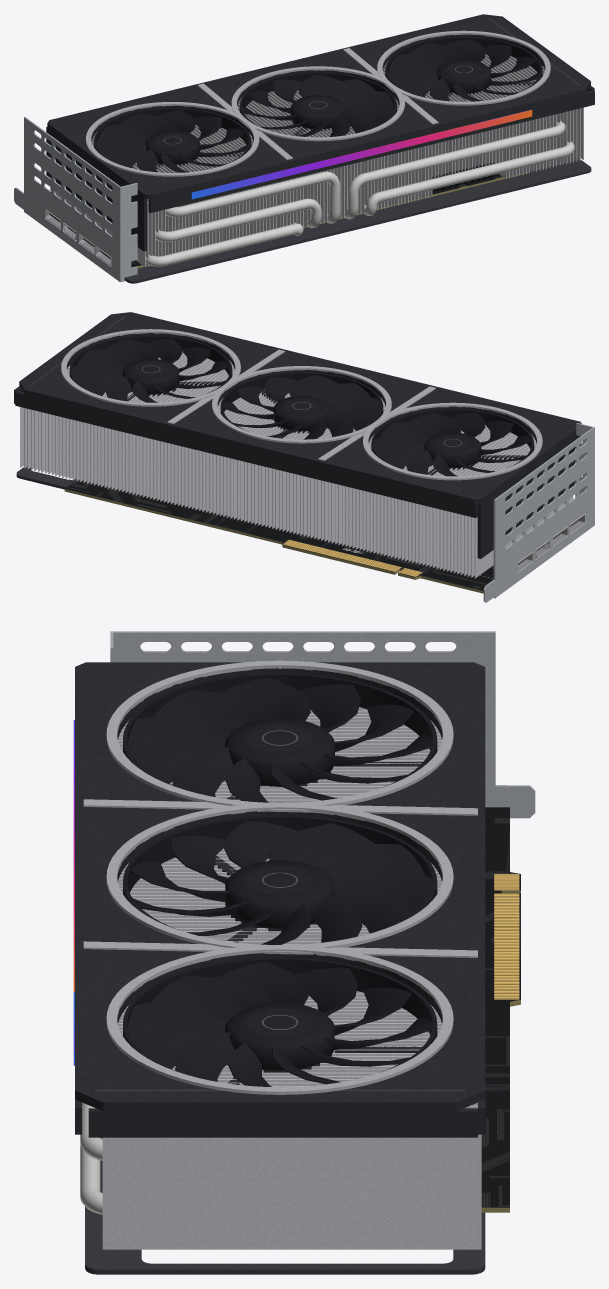
File: gpu.glb
The picture shows the model from 3 angles, top to bottom: view 1: azimuth 30°, elevation 25°; view 2: azimuth 150°, elevation 25°; view 3: azimuth 270°, elevation 25°; orthographic projection. The views are drawn at different scales.
Parts seen in each view (by area): view 1: Shroud, Heatsink fin stack, Heat pipes (nickel-plated copper), Slot bracket, Brushed aluminium accents, Backplate, Fan 3 blades, Fan 1 blades, Fan 2 blades, RGB light strip, Fan 2 hub, Fan 1 hub (+4 smaller); view 2: Heatsink fin stack, Shroud, Slot bracket, Brushed aluminium accents, Printed circuit board, Fan 1 blades, Fan 3 blades, Fan 2 blades, Fan 1 hub, Fan 2 hub, Fan 3 hub, Gold-finger contacts (x16) (+2 smaller); view 3: Shroud, Heatsink fin stack, Brushed aluminium accents, Fan 3 blades, Fan 1 blades, Fan 2 blades, Slot bracket, Printed circuit board, Backplate, Fan 2 hub, Fan 1 hub, Fan 3 hub (+2 smaller).
Boxes of the visible parts, bbox=[...] form: Shroud: bbox=[46, 14, 594, 251]; Heatsink fin stack: bbox=[50, 54, 583, 266]; Heat pipes (nickel-plated copper): bbox=[145, 121, 574, 266]; Slot bracket: bbox=[14, 117, 137, 282]; Brushed aluminium accents: bbox=[86, 30, 550, 176]; Backplate: bbox=[124, 159, 591, 283]; Fan 3 blades: bbox=[385, 37, 542, 101]; Fan 1 blades: bbox=[94, 108, 251, 172]; Fan 2 blades: bbox=[239, 72, 396, 136]; RGB light strip: bbox=[191, 109, 532, 199]; Fan 2 hub: bbox=[291, 95, 345, 128]; Fan 1 hub: bbox=[145, 130, 199, 164]; Heatsink fin stack: bbox=[20, 351, 573, 578]; Shroud: bbox=[14, 312, 581, 558]; Slot bracket: bbox=[483, 423, 594, 602]; Brushed aluminium accents: bbox=[61, 329, 542, 480]; Printed circuit board: bbox=[64, 479, 569, 593]; Fan 1 blades: bbox=[371, 409, 534, 476]; Fan 3 blades: bbox=[69, 335, 232, 402]; Fan 2 blades: bbox=[220, 372, 383, 439]; Fan 1 hub: bbox=[424, 432, 481, 467]; Fan 2 hub: bbox=[273, 395, 330, 430]; Fan 3 hub: bbox=[122, 359, 179, 394]; Gold-finger contacts (x16): bbox=[283, 540, 421, 576]; Shroud: bbox=[75, 662, 485, 1137]; Heatsink fin stack: bbox=[102, 707, 481, 1249]; Brushed aluminium accents: bbox=[83, 660, 477, 1094]; Fan 3 blades: bbox=[123, 957, 437, 1086]; Fan 1 blades: bbox=[123, 673, 437, 802]; Fan 2 blades: bbox=[123, 815, 437, 944]; Slot bracket: bbox=[110, 631, 535, 818]; Printed circuit board: bbox=[481, 807, 520, 1212]; Backplate: bbox=[85, 1137, 485, 1274]; Fan 2 hub: bbox=[225, 860, 334, 928]; Fan 1 hub: bbox=[225, 718, 334, 786]; Fan 3 hub: bbox=[225, 1002, 334, 1070].
Bounding box in the file's own units: 0.3059 × 0.0591 × 0.1304.
Materials: 18 (18 with a texture image).
